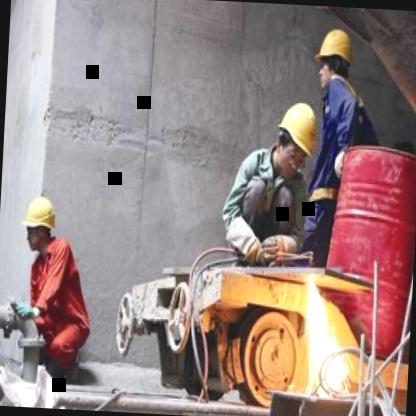helmet: (266, 95, 324, 181), (310, 23, 356, 96), (19, 190, 60, 256)
